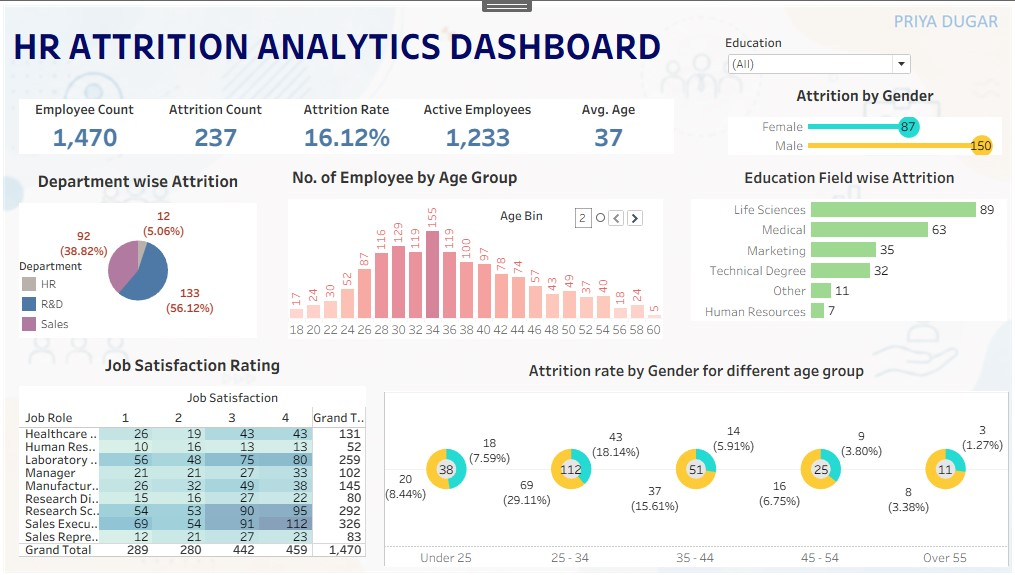

What the dashboard file says about the page in this screenshot:
{"tool":"tableau","page":{"name":"HR ANALYTICS DASHBOARD","canvas":[1000,1000],"units":"permille","ordinal":0},"visuals":[{"type":"image","param":"C:/Users/ADMIN/Downloads/Background.png","box":[6.9,13.5,986.1,973]},{"type":"text","box":[69.3,35.5,583.6,104.7]},{"type":"filter","title":"KPI","param":"[federated.0nfq5c6121d1cr1h31wqg0u8pl2m].[none:Education:nk]","box":[688.3,69.3,163.6,71]},{"type":"worksheet","title":"Attrition by Gender","mark":"Automatic","rows":["Gender"],"cols":["Calculation_0597619438637056","Calculation_0597619438637056"],"box":[690.9,148.7,237.5,125]},{"type":"worksheet","title":"KPI","mark":"Automatic","box":[77.1,179.1,567.2,92.9]},{"type":"worksheet","title":"No. of Employee by Age Group","mark":"Automatic","rows":["Employee Count"],"cols":["Age (bin)"],"box":[310,285.5,324.4,299]},{"type":"worksheet","title":"Education Field wise Attrition","mark":"Automatic","rows":["Education Field"],"cols":["Calculation_0597619438637056"],"box":[658.6,287.2,274.2,266.9]},{"type":"worksheet","title":"Department wise Attrition","mark":"Pie","box":[77.1,292.2,206.1,290.5]},{"type":"parameter","param":"[Parameters].[Parameter 0031096290975744]","box":[493.7,358.1,126.3,43.9]},{"type":"legend","title":"Department wise Attrition","param":"[federated.0nfq5c6121d1cr1h31wqg0u8pl2m].[none:Department:nk]","box":[77.1,447.6,69,128.4]},{"type":"worksheet","title":"Job Satisfaction Rating","mark":"Square","rows":["Job Role"],"cols":["Job Satisfaction"],"box":[77.1,603,300.2,349.7]},{"type":"worksheet","title":"Attrition rate by Gender for different age group","mark":"Pie","rows":["Calculation_0031096310734850","Calculation_0031096310812676"],"cols":["CF_age band"],"box":[393.4,613.2,541.2,356.4]}]}

Visuals, with their boxes on the dashboard's canvas, which has no fixed pixel size, in thousandths of its width and height (x1, y1, x2, y2). These are canvas units, not pixel positions in the 1015x575 screenshot, which may show the page scaled, cropped or inside an application window:
image: 7,14,993,986
text: 69,36,653,140
"KPI" filter: 688,69,852,140
"Attrition by Gender" worksheet: 691,149,928,274
"KPI" worksheet: 77,179,644,272
"No. of Employee by Age Group" worksheet: 310,286,634,584
"Education Field wise Attrition" worksheet: 659,287,933,554
"Department wise Attrition" worksheet (Pie marks): 77,292,283,583
parameter: 494,358,620,402
"Department wise Attrition" legend: 77,448,146,576
"Job Satisfaction Rating" worksheet (Square marks): 77,603,377,953
"Attrition rate by Gender for different age group" worksheet (Pie marks): 393,613,935,970
